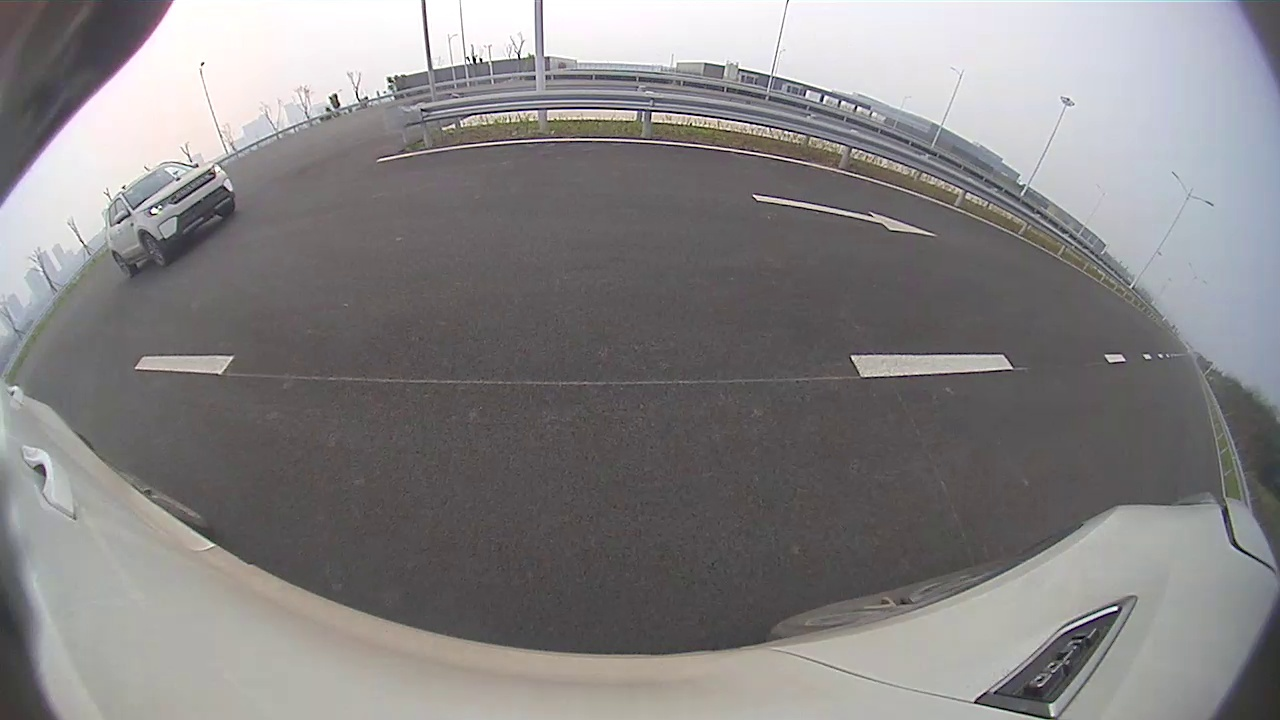car: (106, 161, 235, 278)
front: (139, 233, 169, 270)
